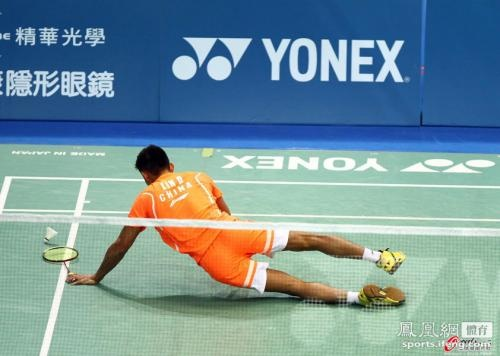falling: (63, 138, 402, 318)
